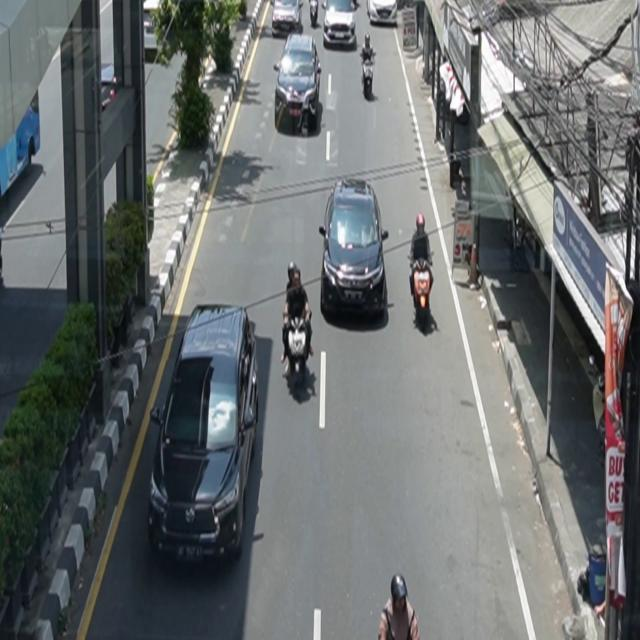car: (149, 304, 260, 567), (320, 177, 390, 320), (274, 32, 322, 134), (322, 1, 360, 49), (367, 1, 398, 26)
